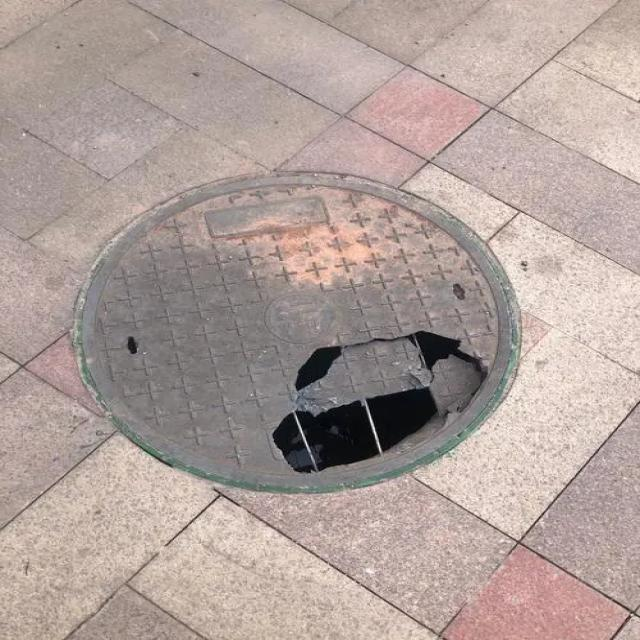manhole: (75, 172, 520, 492)
